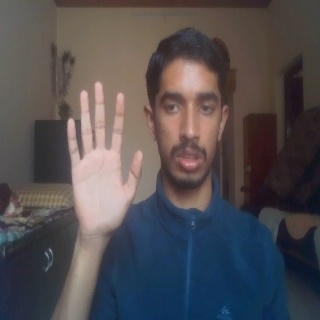Face: (141, 26, 231, 196)
Hello: (64, 80, 144, 239)
